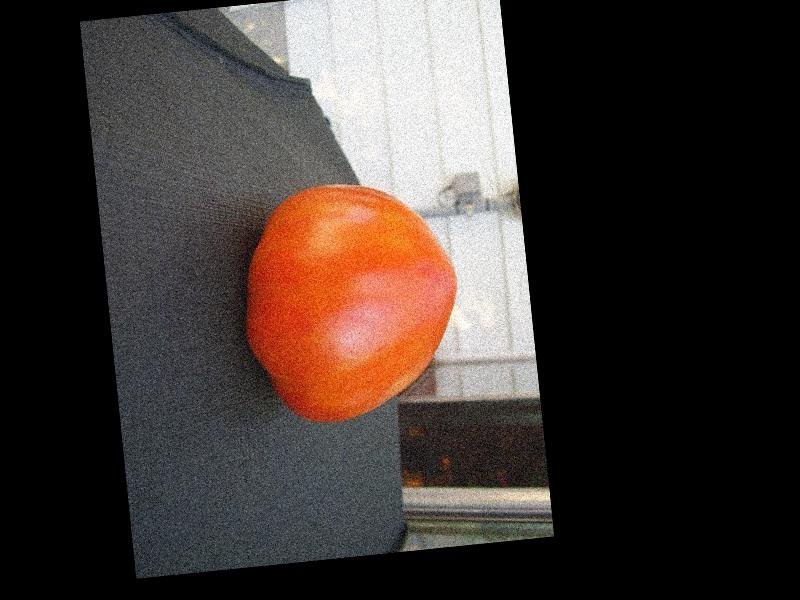Tomato: (234, 173, 471, 429)
